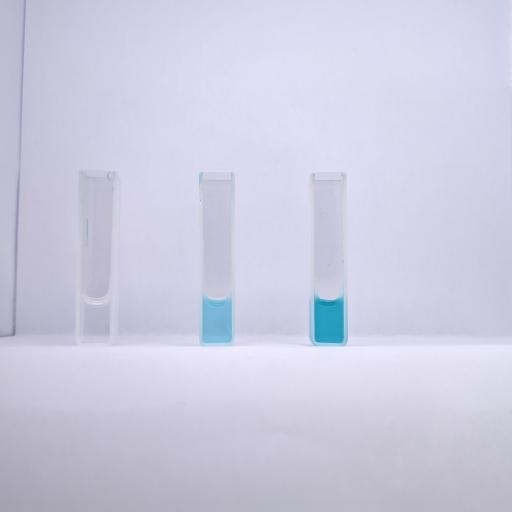cuvette: (74, 167, 118, 351), (308, 170, 350, 348), (197, 168, 237, 348)
liquid: (316, 296, 344, 343), (203, 297, 231, 342), (83, 296, 109, 342)
